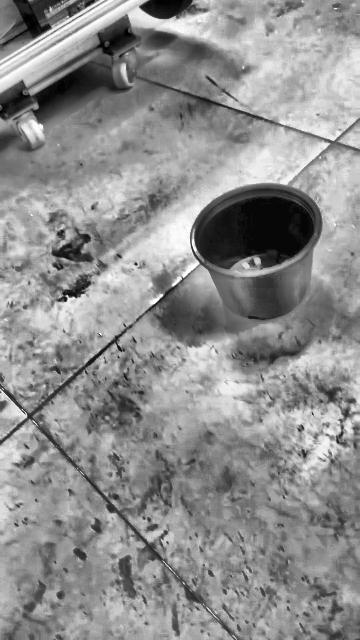pot: (192, 184, 322, 319)
